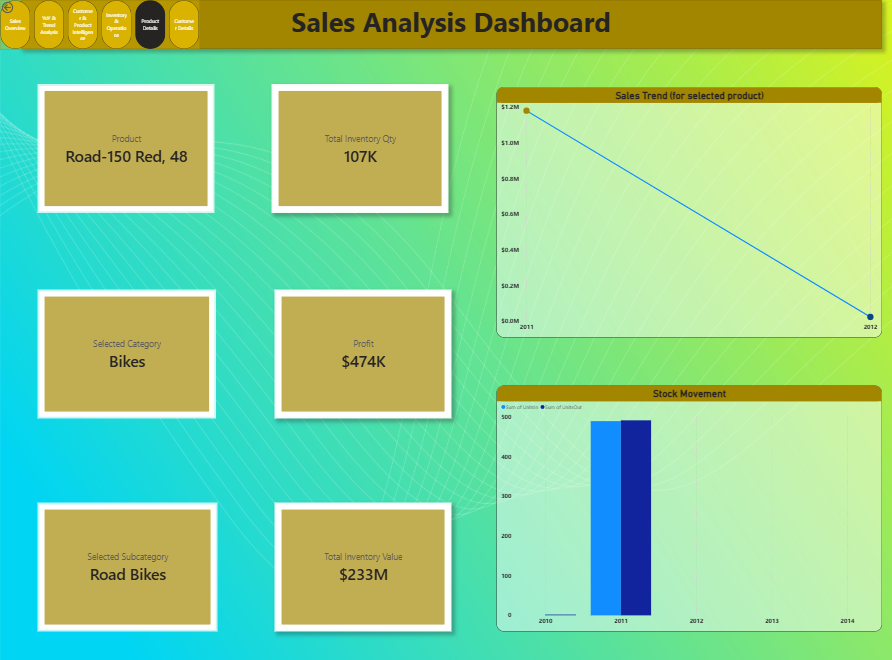

The dashboard page shown, as its layout file describes it:
{"tool":"powerbi","page":{"name":"Product Details","canvas":[2400,1800],"ordinal":4},"visuals":[{"type":"textbox","box":[55,0,2295,130],"z":0},{"type":"cardVisual","fields":{"Data":["FactProductInventory.Total Inventory Value"]},"box":[732,1340,472,344],"z":1000},{"type":"cardVisual","fields":{"Data":["DimProductCategory.Selected Category"]},"box":[100,772,476,344],"z":2000},{"type":"cardVisual","fields":{"Data":["FactInternetSales.Profit"]},"box":[732,772,472,344],"z":3000},{"type":"cardVisual","fields":{"Data":["FactProductInventory.Total Inventory Qty"]},"box":[724,224,472,344],"z":4000},{"type":"clusteredColumnChart","title":"Stock Movement","fields":{"Category":["FactProductInventory.MovementDate.Variation.Date Hierarchy.Year","FactProductInventory.MovementDate.Variation.Date Hierarchy.Quarter","FactProductInventory.MovementDate.Variation.Date Hierarchy.Month","FactProductInventory.MovementDate.Variation.Date Hierarchy.Day"],"Y":["Sum(FactProductInventory.UnitsIn)","Sum(FactProductInventory.UnitsOut)"]},"box":[1324,1028,1028,656],"z":5000},{"type":"pageNavigator","box":[0,0,532,132],"z":6000},{"type":"cardVisual","fields":{"Data":["DimProductSubcategory.Selected Subcategory"]},"box":[100,1340,480,344],"z":7000},{"type":"cardVisual","fields":{"Data":["Min(DimProduct.EnglishProductName)"]},"box":[100,224,472,344],"z":8000},{"type":"lineChart","title":"Sales Trend (for selected product)","fields":{"Category":["DimDate.Date.Variation.Date Hierarchy.Year","DimDate.Date.Variation.Date Hierarchy.Quarter","DimDate.Date.Variation.Date Hierarchy.Month","DimDate.Date.Variation.Date Hierarchy.Day"],"Y":["FactInternetSales.Total Sales"]},"box":[1324,232,1028,668],"z":9000},{"type":"actionButton","box":[0,0,100,40],"z":10000}]}

Visuals, with their boxes in screenshot pixels (x1, y1, x2, y2), scaled from the page's 2400x1800 canvas onto the 892x660 screenshot:
textbox: (20, 0, 873, 48)
cardVisual - FactProductInventory.Total Inventory Value: (272, 491, 447, 617)
cardVisual - DimProductCategory.Selected Category: (37, 283, 214, 409)
cardVisual - FactInternetSales.Profit: (272, 283, 447, 409)
cardVisual - FactProductInventory.Total Inventory Qty: (269, 82, 445, 208)
"Stock Movement" clusteredColumnChart: (492, 377, 874, 617)
pageNavigator: (0, 0, 198, 48)
cardVisual - DimProductSubcategory.Selected Subcategory: (37, 491, 216, 617)
cardVisual - Min(DimProduct.EnglishProductName): (37, 82, 213, 208)
"Sales Trend (for selected product)" lineChart: (492, 85, 874, 330)
actionButton: (0, 0, 37, 15)
